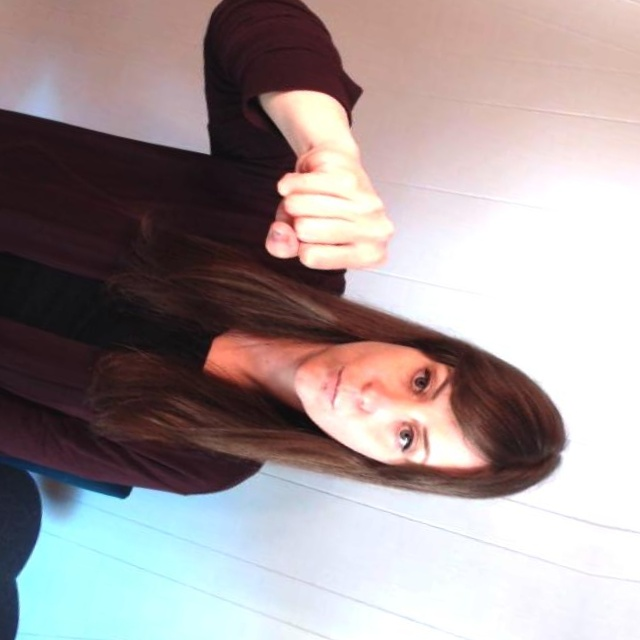Rock: (247, 129, 413, 289)
